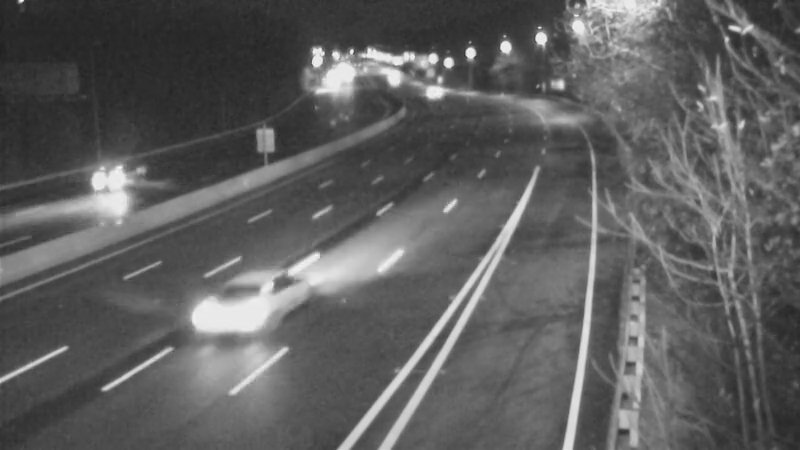vehicle: (178, 256, 288, 366), (72, 138, 152, 218), (405, 65, 455, 115)
